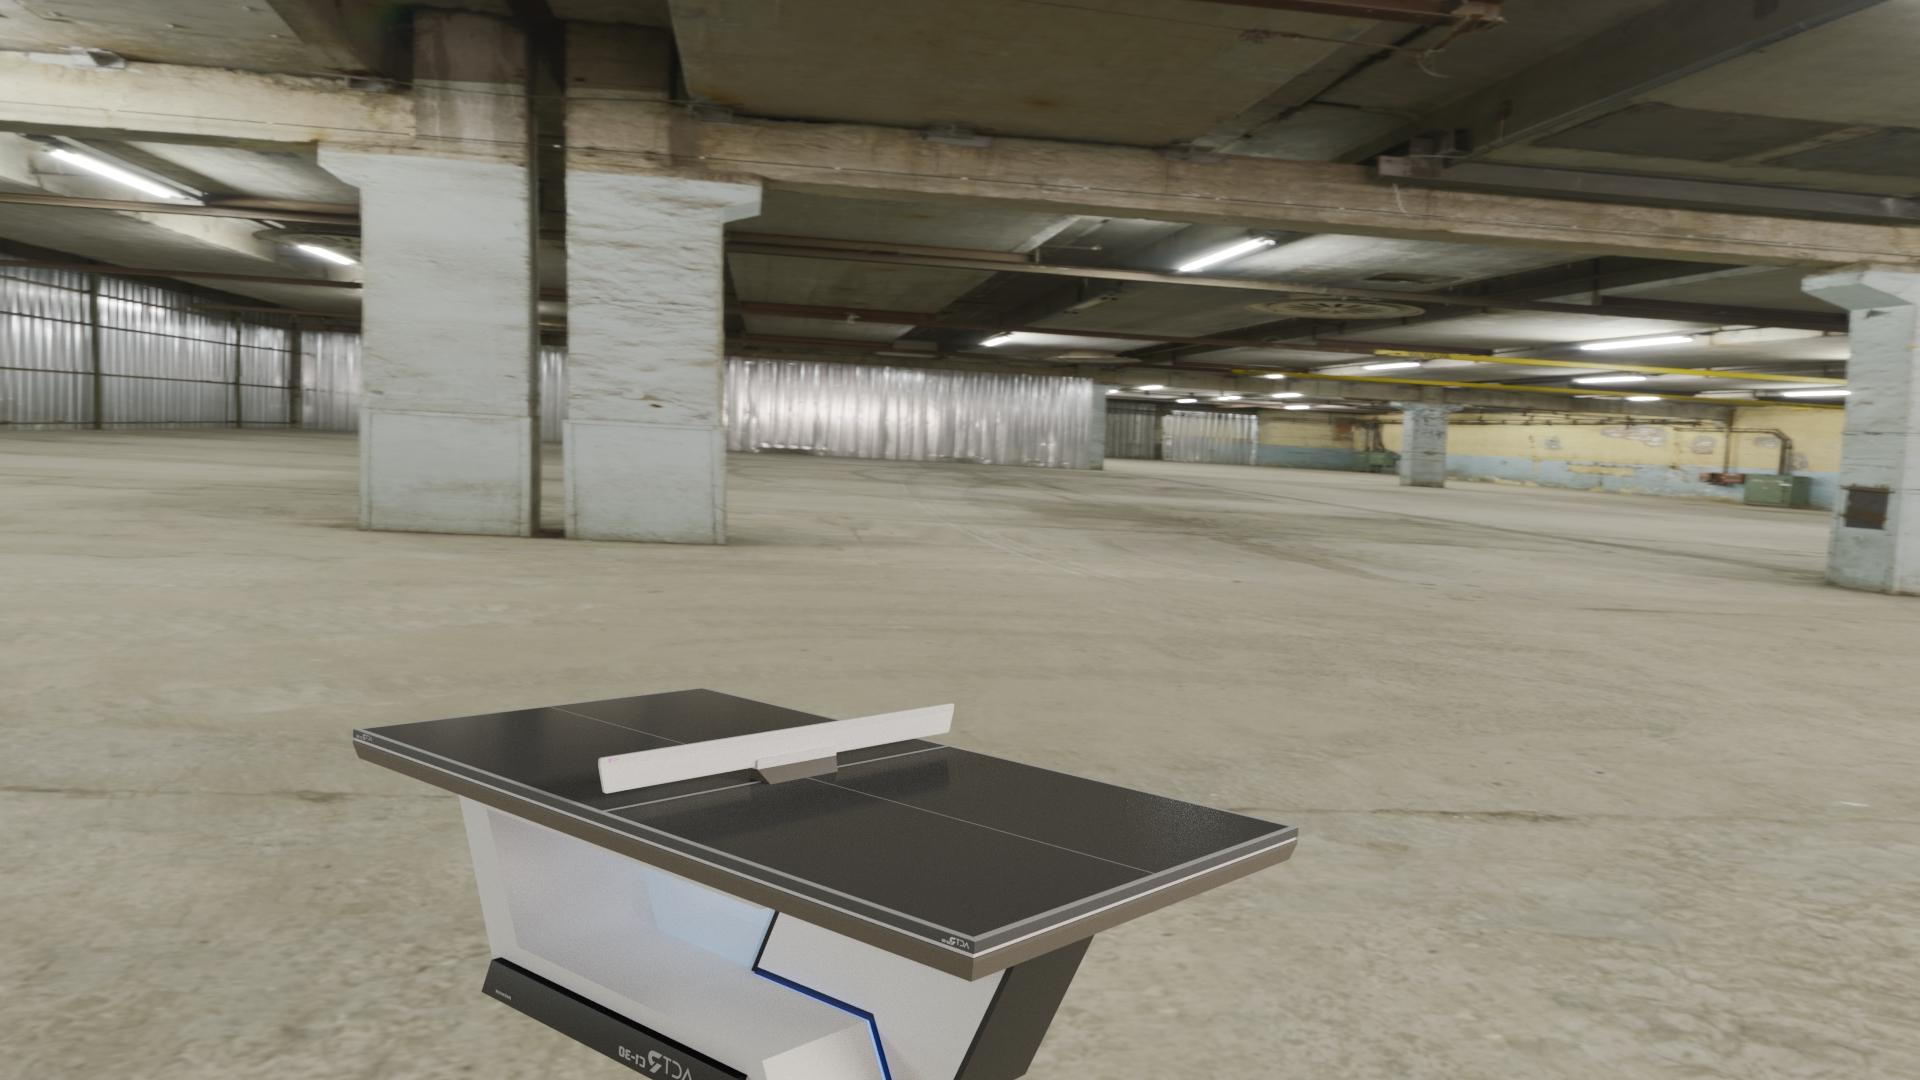table: (361, 688, 1290, 938)
